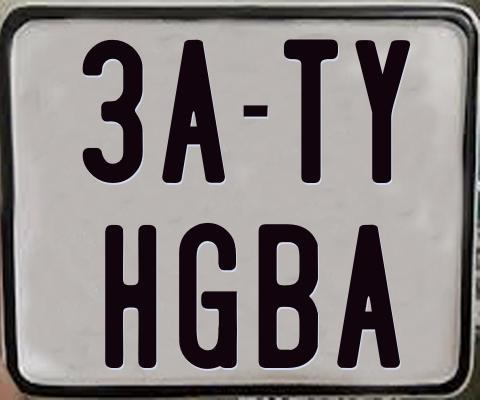3: (80, 37, 145, 184)
A: (162, 38, 231, 182), (337, 222, 400, 368)
B: (255, 222, 321, 369)
G: (176, 222, 236, 372)
H: (102, 223, 155, 367)
T: (282, 37, 341, 186)
Y: (353, 40, 409, 184)
